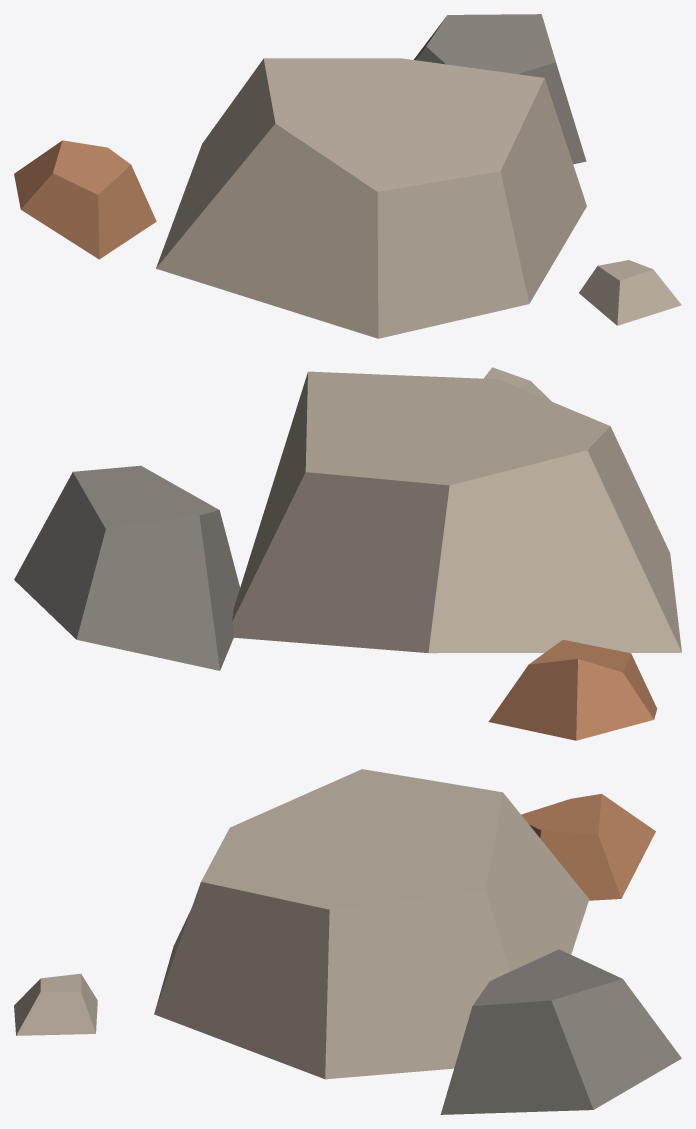
Rendered from desert_stones.glb.
The picture shows the model from 3 angles, top to bottom: view 1: azimuth 30°, elevation 25°; view 2: azimuth 150°, elevation 25°; view 3: azimuth 270°, elevation 25°; orthographic projection. The views are drawn at different scales.
Visible parts, largest first — view 1: desert_stones; view 2: desert_stones; view 3: desert_stones.
Boxes of the visible parts, left/top/right/bottom form: desert_stones: left=14, top=14, right=681, bottom=338; desert_stones: left=14, top=367, right=681, bottom=740; desert_stones: left=14, top=769, right=681, bottom=1114.
Size of the model in its own units: 1.6 by 0.4611 by 1.58.
